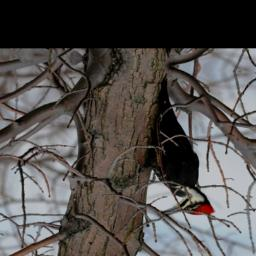Woodpecker: (135, 69, 231, 221)
